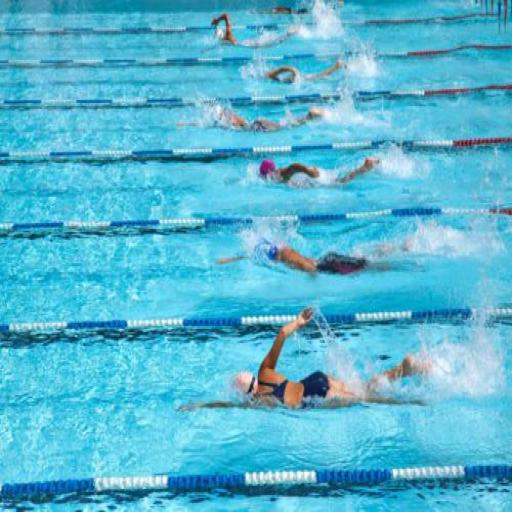swimming: (175, 305, 437, 415), (214, 232, 419, 280), (177, 96, 328, 136), (256, 152, 382, 191), (208, 9, 299, 51), (259, 55, 347, 88)
